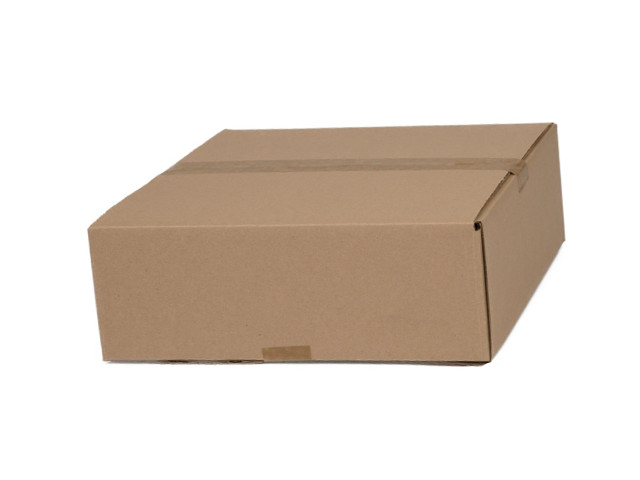cardboard: (85, 121, 566, 364)
